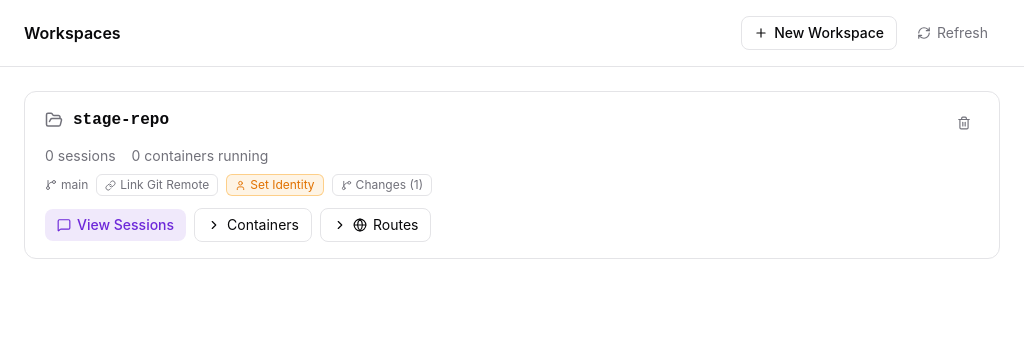
Scenario: Dashboard — Git staging UI › shows staging panel when Changes is clicked
What coordinates should you click on to do the following:
click the button with test id "changes-toggle"
I would click on:
 (382, 185)
Its box is [332,174,432,196].
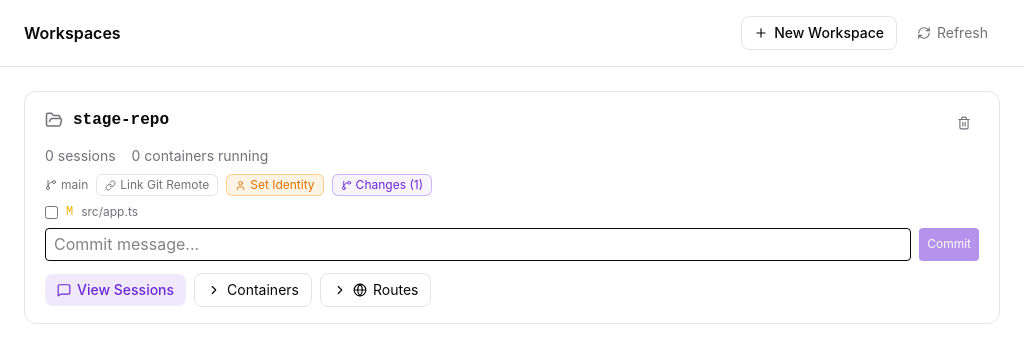
Expected: the element with test id "staging-panel" is shown, [45,204,979,261]
